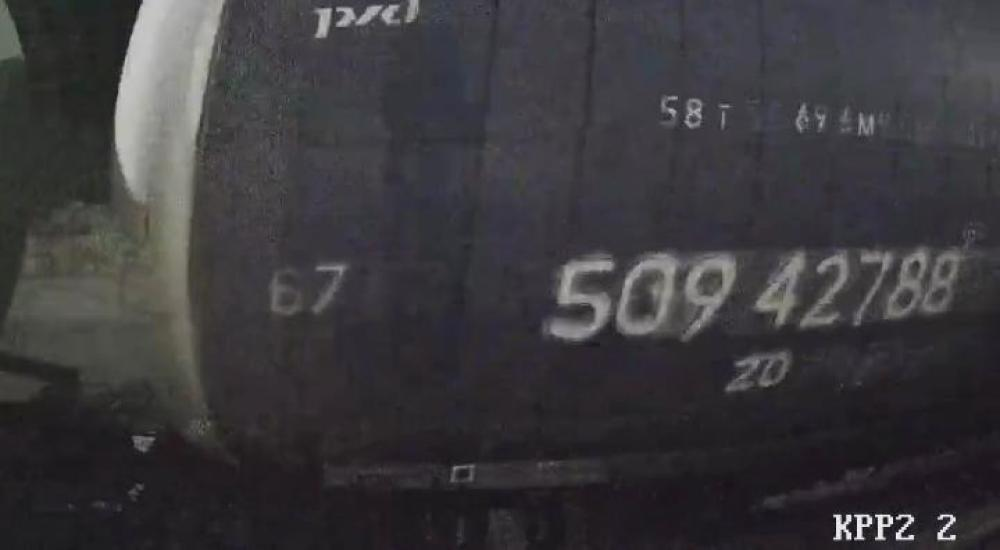Wagon-number: (543, 244, 966, 348)
